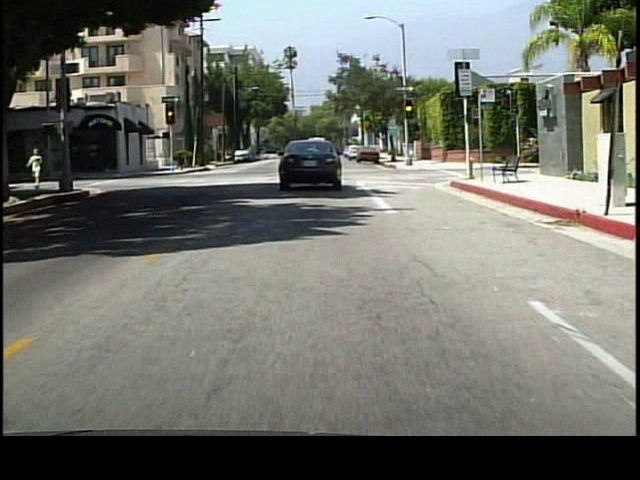person: (30, 145, 48, 191)
